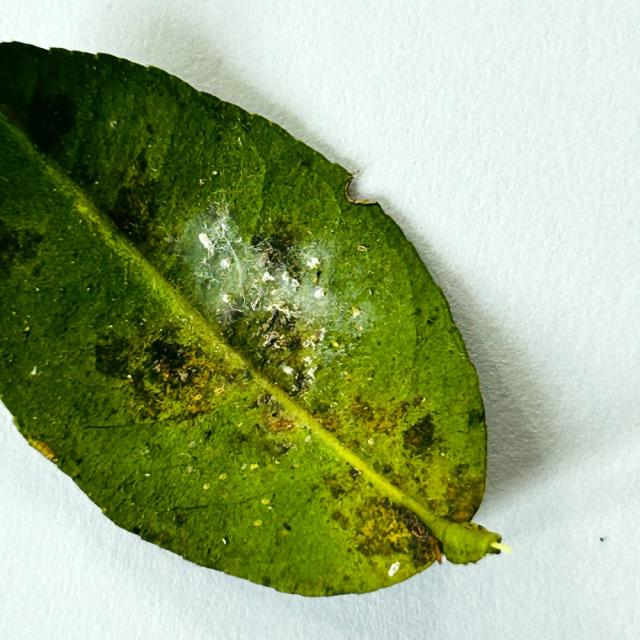Bacterial_Blight: (73, 417, 197, 465), (20, 87, 83, 160), (109, 180, 160, 237), (133, 346, 194, 392), (251, 231, 306, 282), (352, 515, 404, 558), (438, 468, 481, 514), (125, 144, 163, 191), (255, 393, 298, 432), (400, 413, 437, 455), (0, 228, 38, 266), (1, 98, 34, 137), (345, 398, 380, 427), (194, 161, 226, 192), (265, 214, 299, 243), (57, 451, 83, 480), (423, 473, 448, 502), (290, 368, 315, 395), (27, 438, 57, 460), (83, 421, 143, 430), (326, 478, 350, 500), (466, 407, 485, 430), (283, 334, 304, 354), (330, 510, 351, 529), (260, 329, 282, 347), (320, 412, 339, 431), (174, 503, 209, 512), (171, 510, 189, 526), (257, 393, 273, 407), (257, 251, 270, 268), (311, 328, 324, 343), (84, 281, 97, 295), (75, 203, 90, 215), (21, 326, 31, 342), (349, 467, 361, 479), (145, 123, 156, 135), (131, 525, 141, 535), (282, 522, 292, 532), (58, 286, 67, 295), (426, 318, 435, 326), (216, 133, 223, 141)
Lemon: (0, 42, 504, 601)
